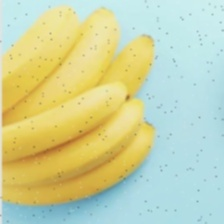banana: (36, 36, 186, 172)
